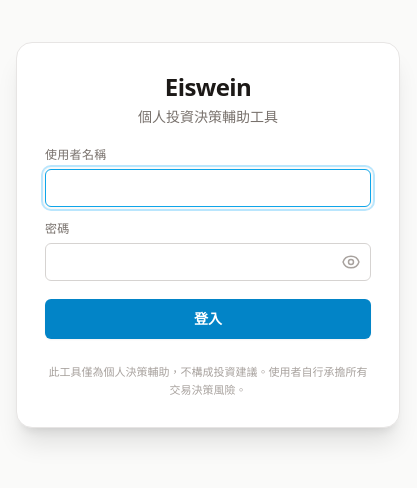
Test case: LoginPage › shows invalid_password message with attempts_remaining
Type "admin" into the field labelled "使用者名稱" at (208, 188), box x1=45 y1=169 x2=371 y2=207
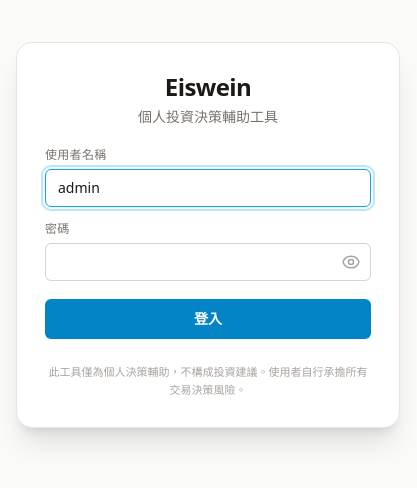
Type "wrong" into the password field labelled "密碼" at (208, 262), box x1=45 y1=243 x2=371 y2=281
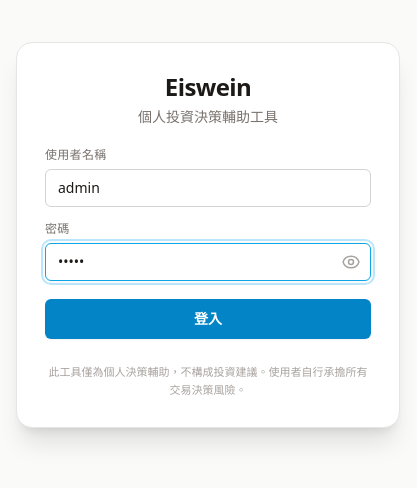
Click the button "登入" at (208, 319), box x1=45 y1=299 x2=371 y2=339
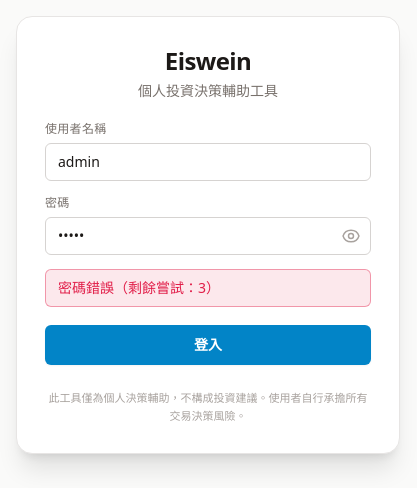
Check: the text "密碼錯誤（剩餘嘗試：3）" is shown, box x1=45 y1=269 x2=371 y2=307
